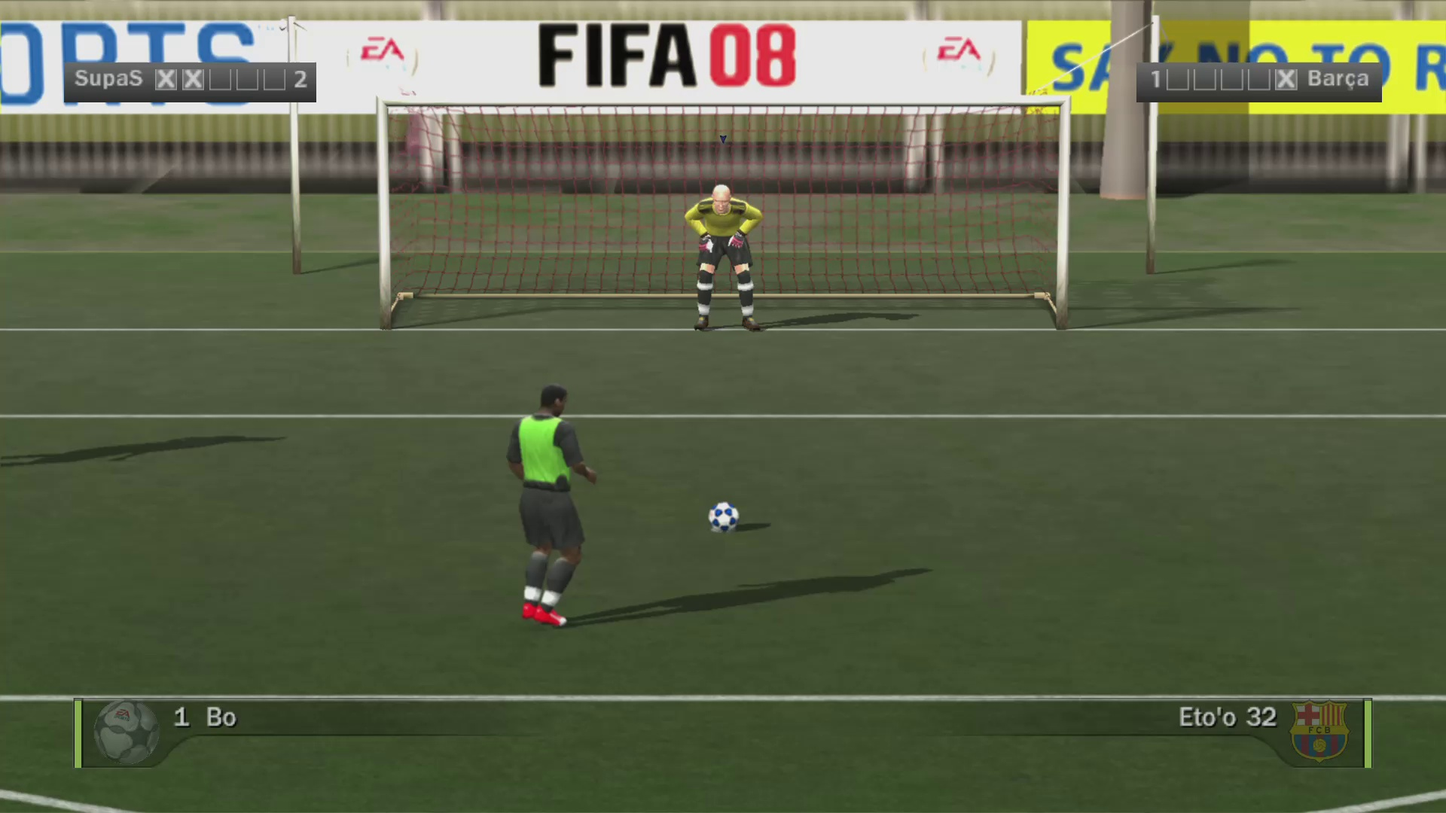ball: (682, 473, 722, 515)
goal_post: (57, 0, 720, 218)
keeper: (639, 98, 726, 260)
kicker: (458, 260, 552, 505)
